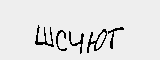С: (54, 27, 69, 54)
Т: (106, 25, 127, 51)
Ч: (66, 28, 84, 55)
Ш: (32, 25, 55, 47)
Ю: (86, 27, 108, 54)
